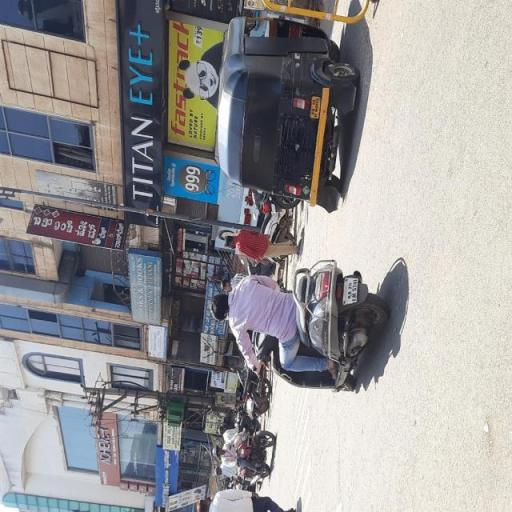using mobile: (222, 311, 232, 322)
